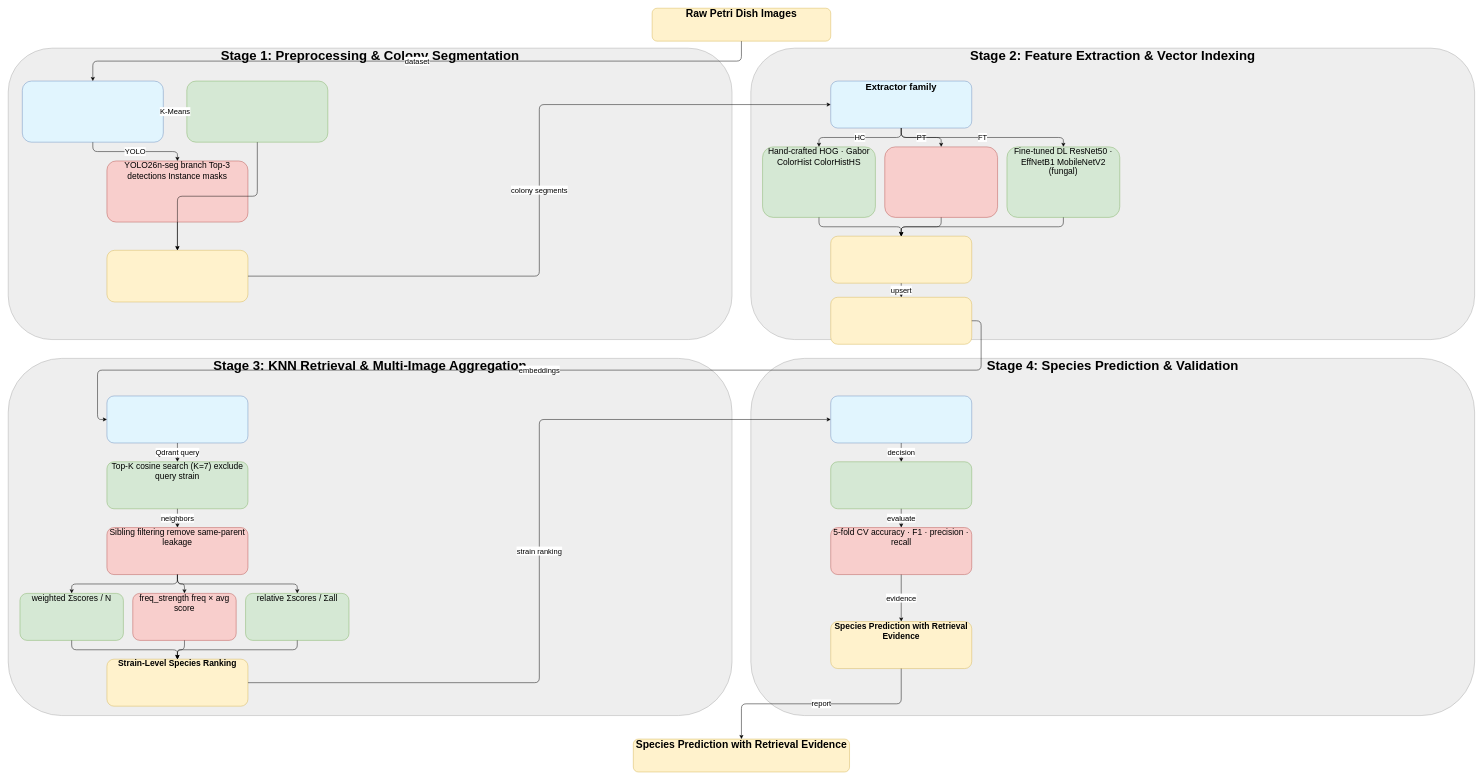
The diagram is 1483 pixels wide and 780 high, and some of its shapes have lost their labels. Each missing label, with the centre of its shape:
K-Means branch HSV K=2 clustering Local K=2 shrink Bounding box: point 257,111
L2-normalize vectors: point 901,259
Output: colony segs (~3 per plate): point 177,276
Pretrained DL ResNet50 · EffNetB1 MobileNetV2 (ImageNet): point 941,181
Qdrant vector DB (cosine index): point 901,320
Query colony extract feature: point 177,419
Resize 256×256 Circle detection Background masking Crop to dish: point 92,111
Threshold check known vs unknown: point 901,485
Top-1 species with confidence: point 901,419
